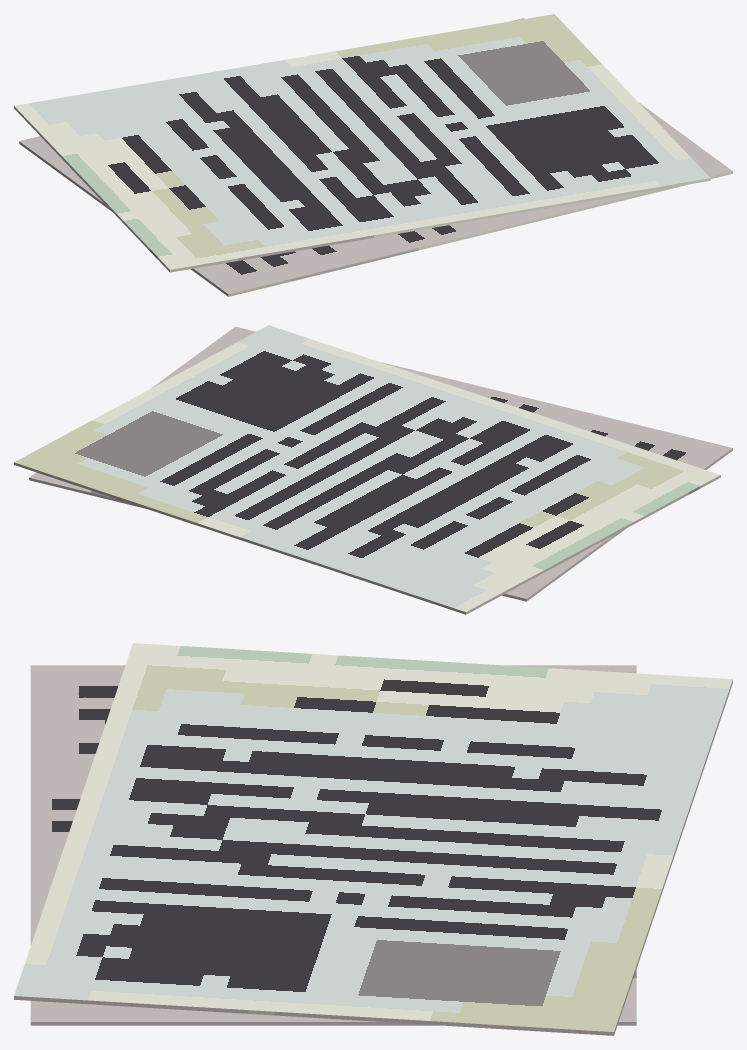
Rendered from Document2.fbx.
3 renders of one model, top to bottom at view 1: azimuth 30°, elevation 25°; view 2: azimuth 150°, elevation 25°; view 3: azimuth 270°, elevation 25°, orthographic. The views are drawn at different scales.
Visible parts, largest first — view 1: 1; view 2: 1; view 3: 1.
Part boxes in pixels (x1,y1,x2,y2): 1: (14,14,732,296); 1: (14,325,732,614); 1: (14,643,732,1035).
Bounding box in the file's own units: 280 × 3.29 × 218.
1 material, 1 textured.
